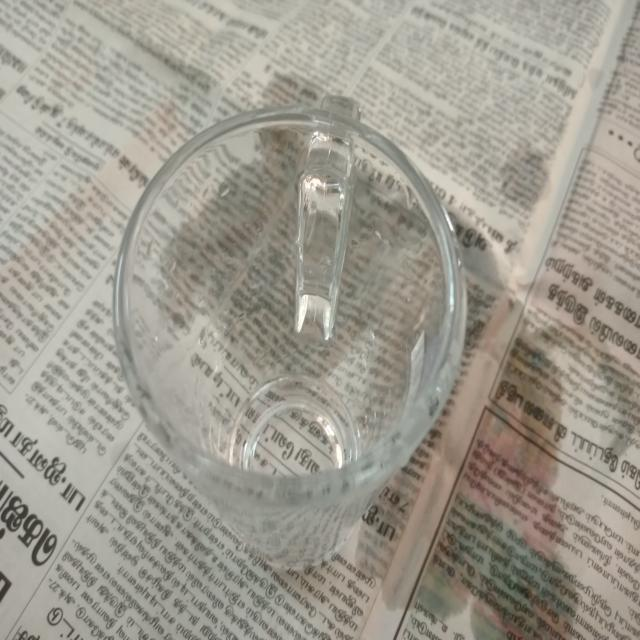glass-VX4N: (113, 95, 470, 571)
